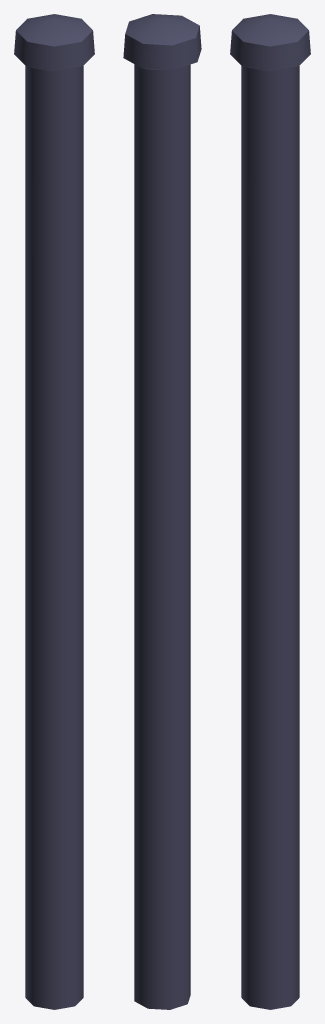
File: mesh_WireFence_Post_v2.fbx
3 renders of one model, left to right at view 1: azimuth 90°, elevation 25°; view 2: azimuth 150°, elevation 25°; view 3: azimuth 270°, elevation 25°, orthographic.
Visible parts, largest first — view 1: mesh_WireFence_Post_v2_0; view 2: mesh_WireFence_Post_v2_0; view 3: mesh_WireFence_Post_v2_0.
Part boxes in pixels (bbox=[...]): mesh_WireFence_Post_v2_0: bbox=[14, 14, 94, 1009]; mesh_WireFence_Post_v2_0: bbox=[123, 14, 201, 1009]; mesh_WireFence_Post_v2_0: bbox=[230, 14, 310, 1009].
Bounding box in the file's own units: 14.06 × 188 × 14.06.
